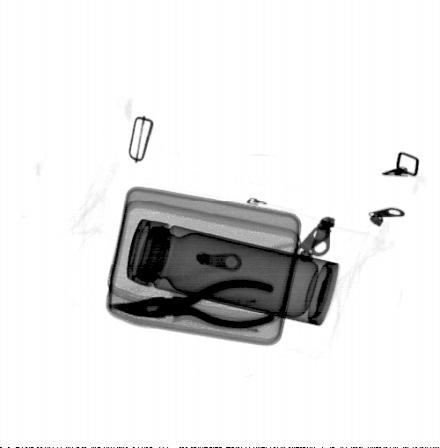Pliers: (108, 276, 278, 332)
